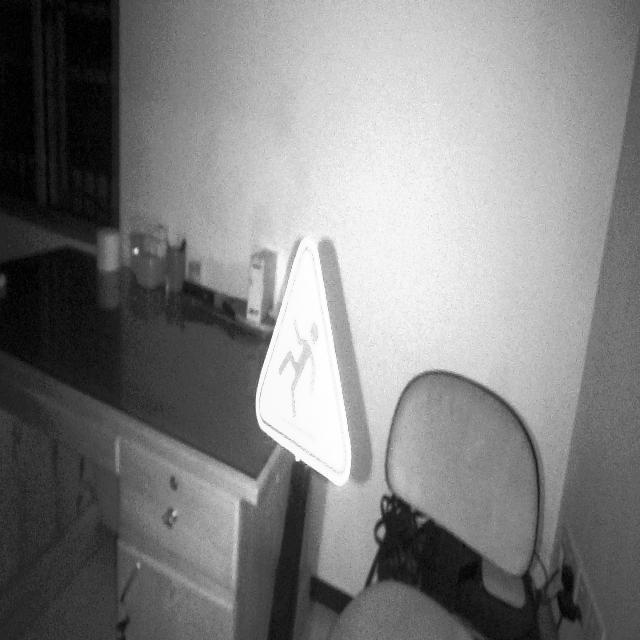Sign: (255, 236, 354, 488)
